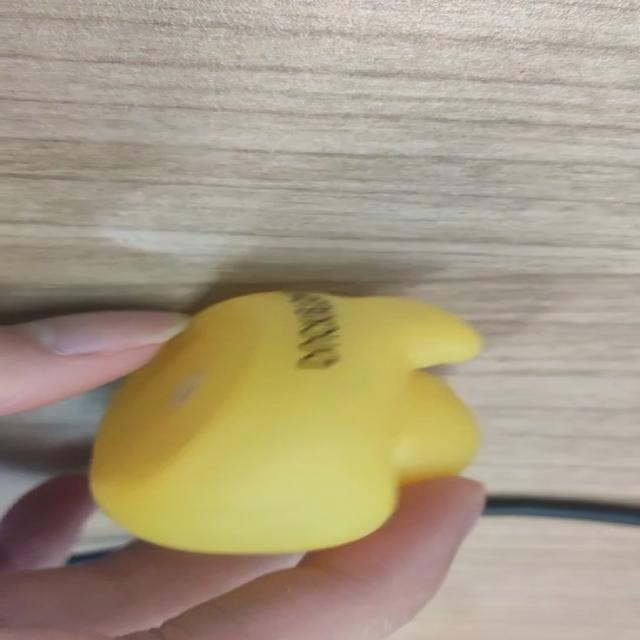rubber-duck: (89, 291, 479, 551)
